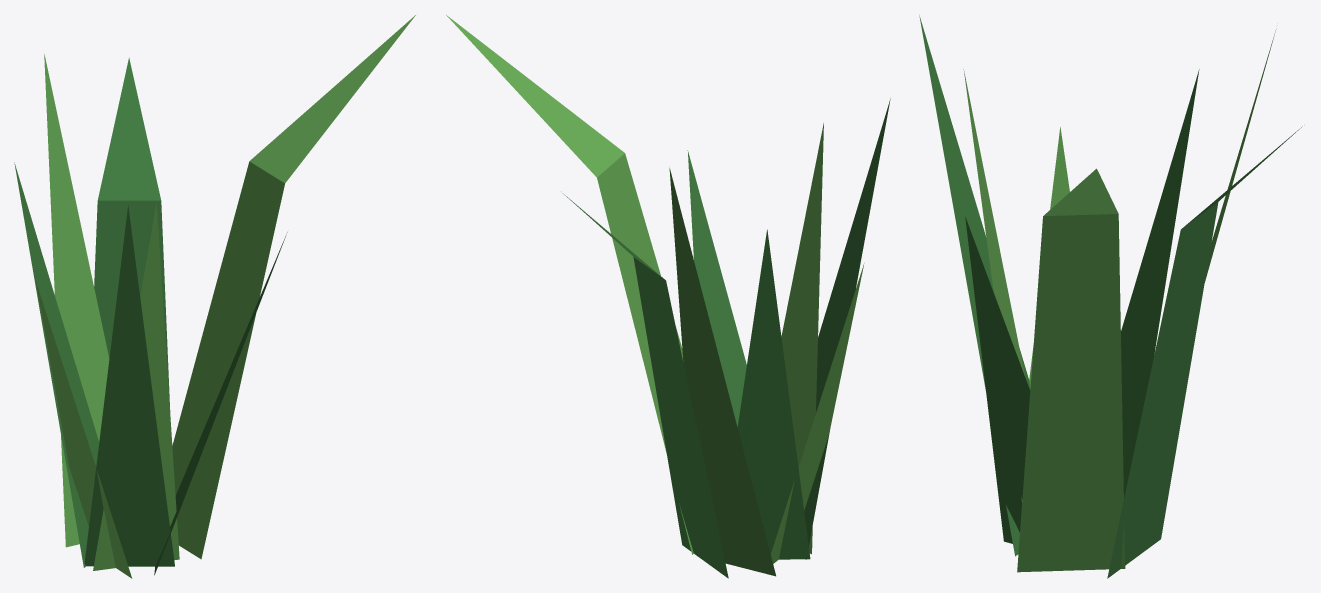
File: grass_tuft.glb
3 renders of one model, left to right at view 1: azimuth 30°, elevation 25°; view 2: azimuth 150°, elevation 25°; view 3: azimuth 270°, elevation 25°, orthographic. The views are drawn at different scales.
Parts seen in each view (by area): view 1: grass_tuft__mesh; view 2: grass_tuft__mesh; view 3: grass_tuft__mesh.
Boxes of the visible parts, x1=… form: grass_tuft__mesh: x1=14, y1=15, x2=415, y2=578; grass_tuft__mesh: x1=446, y1=15, x2=890, y2=578; grass_tuft__mesh: x1=919, y1=15, x2=1302, y2=578.
Bounding box in the file's own units: 0.3272 × 0.363 × 0.2326.
1 material, 1 textured.
